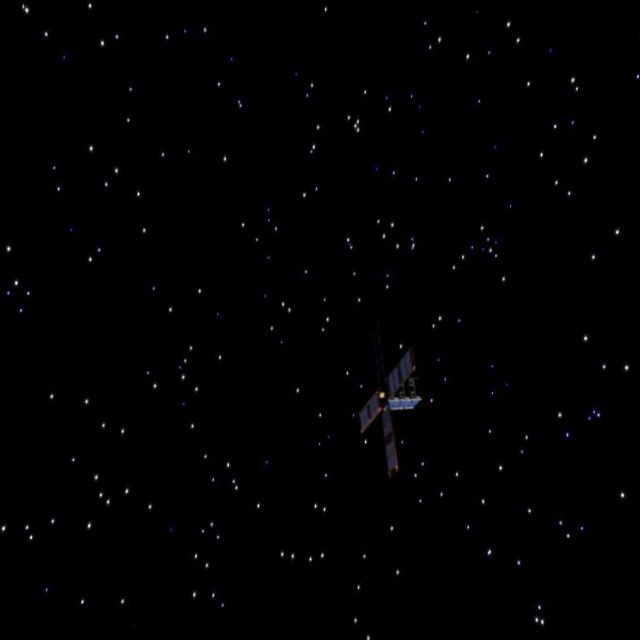satellite: (336, 310, 442, 485)
